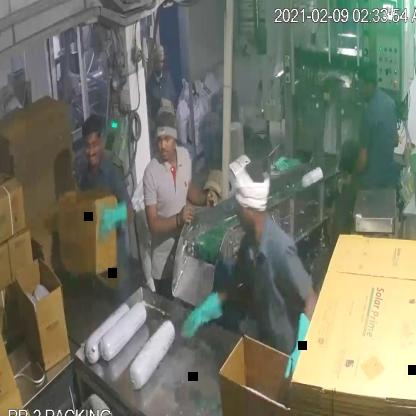glove: (181, 287, 225, 350), (96, 202, 130, 237)
no_glove: (138, 192, 194, 243), (184, 180, 221, 218)
